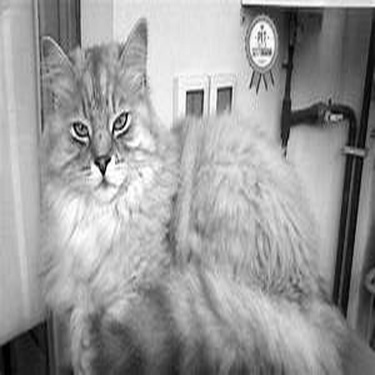cat: (35, 18, 370, 370)
